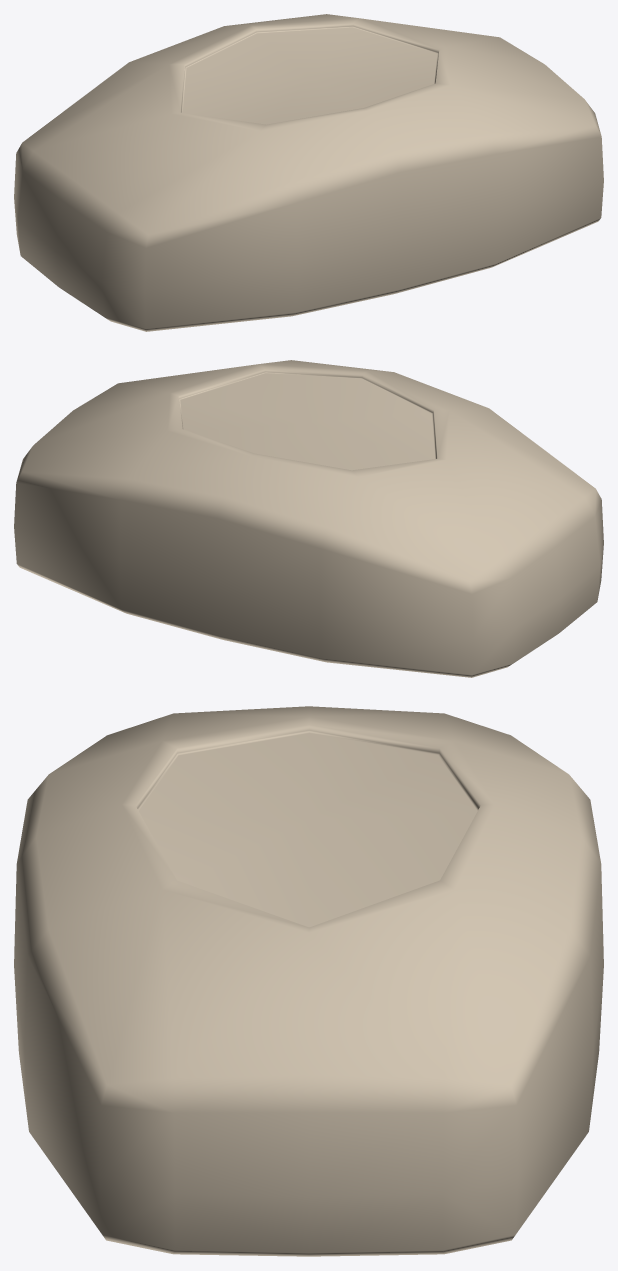
Rendered from soap_32_L.fbx.
3 renders of one model, top to bottom at view 1: azimuth 30°, elevation 25°; view 2: azimuth 150°, elevation 25°; view 3: azimuth 270°, elevation 25°, orthographic. The views are drawn at different scales.
Parts seen in each view (by area): view 1: soap_32_L; view 2: soap_32_L; view 3: soap_32_L.
Part boxes in pixels (x1,y1,x2,y2): soap_32_L: (14, 14, 603, 331); soap_32_L: (14, 360, 603, 677); soap_32_L: (14, 706, 603, 1256).
Size of the model in its own units: 1.98 by 0.6226 by 1.25.
